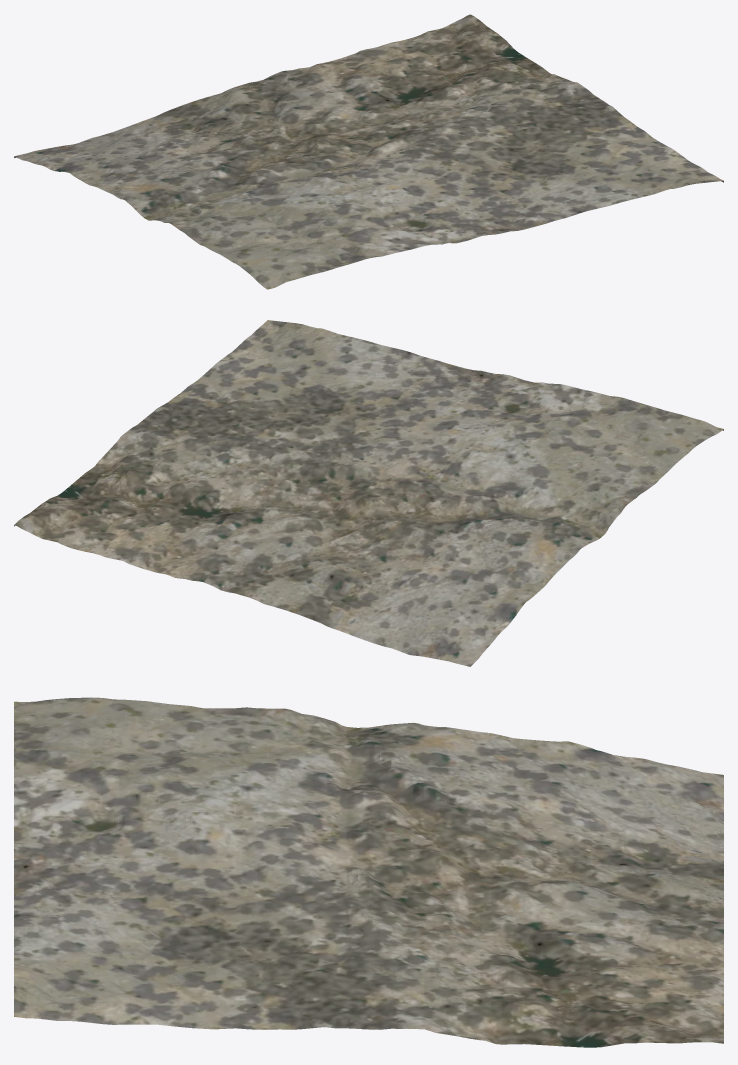
3 views of the same model, one above another, from view 1: azimuth 30°, elevation 25°; view 2: azimuth 150°, elevation 25°; view 3: azimuth 270°, elevation 25° (orthographic). The views are drawn at different scales.
Bounding box in the file's own units: 250 × 33.5 × 241.
Materials: 1 (1 with a texture image).
